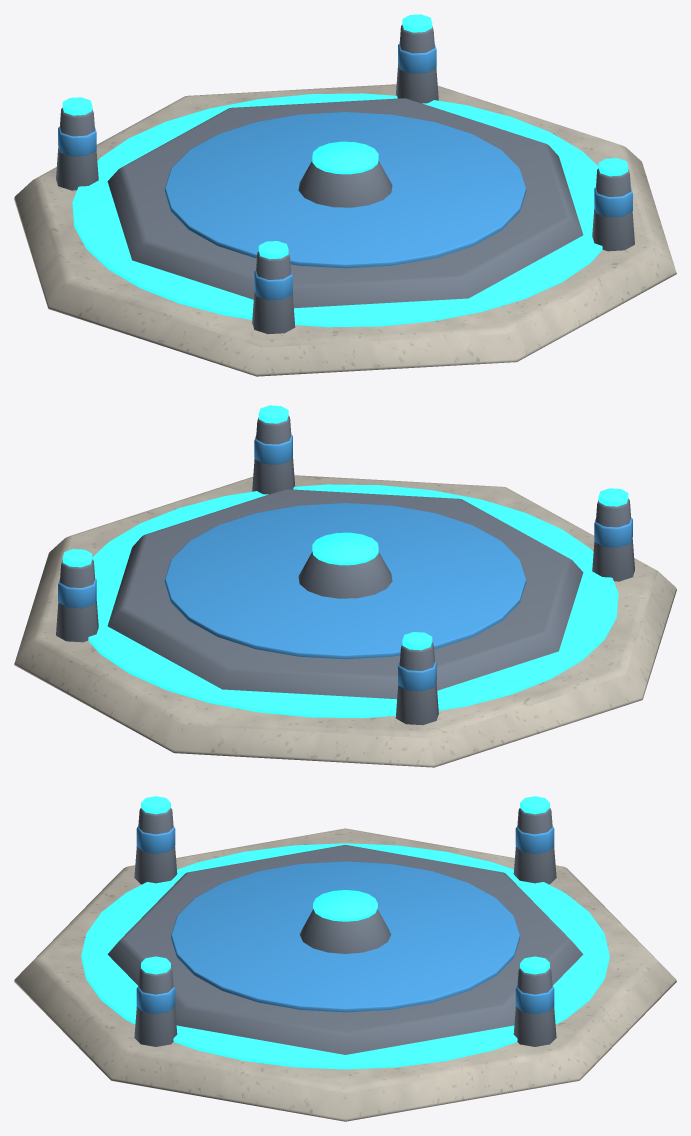
Rendered from flag_pedestal_blue.glb.
3 renders of one model, top to bottom at view 1: azimuth 30°, elevation 25°; view 2: azimuth 150°, elevation 25°; view 3: azimuth 270°, elevation 25°, orthographic. The views are drawn at different scales.
Parts seen in each view (by area): view 1: BaseSlabOuter, BaseTeamMedallion, BaseSlabInner, BaseLEDRing, FlagSocket, Bollard_2, Bollard_3, Bollard_1, Bollard_0, FlagSocketGlow, BollardTeam_0, BollardTeam_2 (+2 smaller); view 2: BaseSlabOuter, BaseTeamMedallion, BaseSlabInner, BaseLEDRing, FlagSocket, Bollard_1, Bollard_0, Bollard_2, Bollard_3, FlagSocketGlow, BollardTeam_3, BollardTeam_0 (+2 smaller); view 3: BaseSlabOuter, BaseTeamMedallion, BaseSlabInner, BaseLEDRing, FlagSocket, Bollard_0, Bollard_3, Bollard_1, Bollard_2, FlagSocketGlow, BollardTeam_1, BollardTeam_2 (+2 smaller).
Boxes of the visible parts, <box> form: BaseSlabOuter: <box>14,84,676,376</box>; BaseTeamMedallion: <box>164,112,526,268</box>; BaseSlabInner: <box>107,98,583,308</box>; BaseLEDRing: <box>72,93,602,327</box>; FlagSocket: <box>298,160,392,207</box>; Bollard_2: <box>252,251,295,334</box>; Bollard_3: <box>592,168,634,251</box>; Bollard_1: <box>56,107,98,190</box>; Bollard_0: <box>395,24,438,103</box>; FlagSocketGlow: <box>312,141,378,174</box>; BollardTeam_0: <box>398,44,436,73</box>; BollardTeam_2: <box>254,270,292,300</box>; BaseSlabOuter: <box>14,475,676,767</box>; BaseTeamMedallion: <box>164,503,526,659</box>; BaseSlabInner: <box>107,489,583,699</box>; BaseLEDRing: <box>88,484,618,718</box>; FlagSocket: <box>298,551,392,598</box>; Bollard_1: <box>395,642,438,725</box>; Bollard_0: <box>56,559,98,642</box>; Bollard_2: <box>592,498,634,581</box>; Bollard_3: <box>252,415,295,494</box>; FlagSocketGlow: <box>312,532,378,565</box>; BollardTeam_3: <box>254,435,292,464</box>; BollardTeam_0: <box>58,578,96,608</box>; BaseSlabOuter: <box>14,828,676,1121</box>; BaseTeamMedallion: <box>171,861,519,1012</box>; BaseSlabInner: <box>107,845,583,1054</box>; BaseLEDRing: <box>81,843,609,1069</box>; FlagSocket: <box>299,909,391,953</box>; Bollard_0: <box>513,968,556,1046</box>; Bollard_3: <box>134,968,177,1046</box>; Bollard_1: <box>513,808,556,884</box>; Bollard_2: <box>134,808,177,884</box>; FlagSocketGlow: <box>313,890,377,921</box>; BollardTeam_1: <box>515,826,554,853</box>; BollardTeam_2: <box>136,826,175,853</box>.
Bounding box in the file's own units: 5.32 × 0.89 × 5.32.
4 materials, 1 textured.
